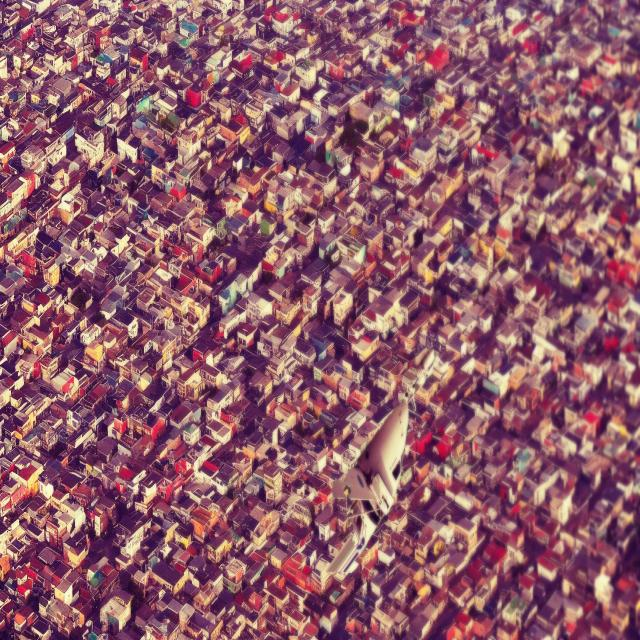airplane: (323, 401, 411, 573)
